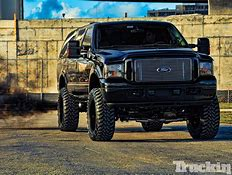smoke: (1, 77, 57, 120)
